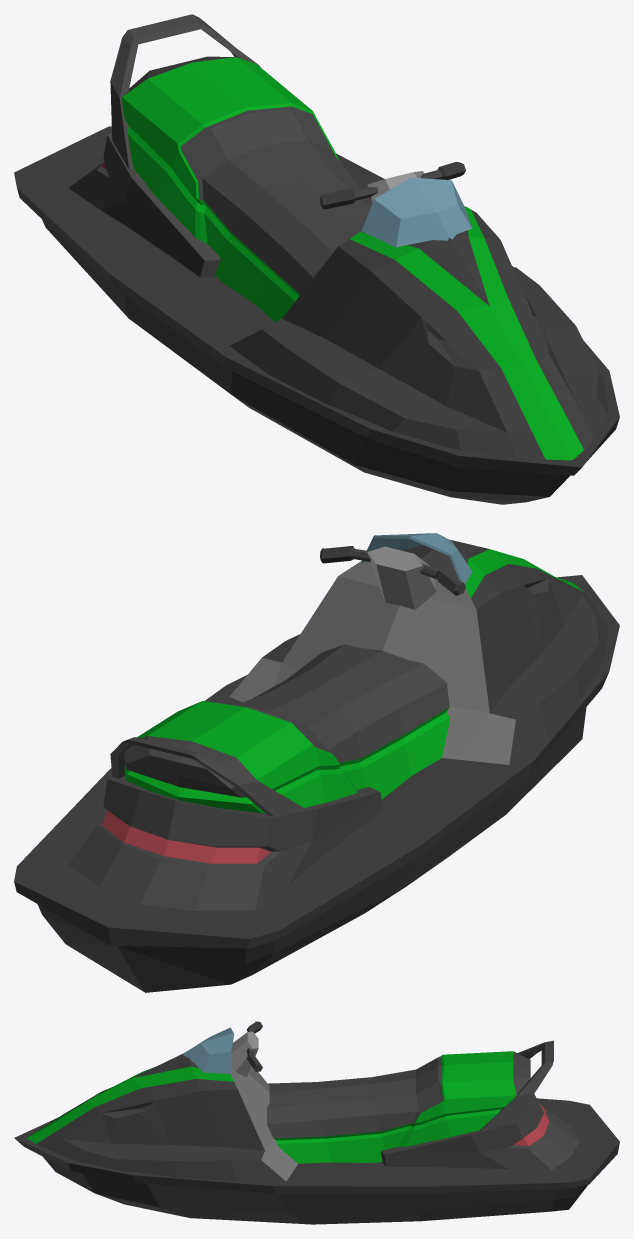
Rendered from Jetski B.fbx.
The picture shows the model from 3 angles, top to bottom: view 1: azimuth 30°, elevation 25°; view 2: azimuth 150°, elevation 25°; view 3: azimuth 270°, elevation 25°; orthographic projection. The views are drawn at different scales.
Parts seen in each view (by area): view 1: Jetski B; view 2: Jetski B; view 3: Jetski B.
Boxes of the visible parts, x1,y1,x2,y2 form: Jetski B: (14,14,619,504); Jetski B: (14,533,619,992); Jetski B: (14,1021,619,1224).
Size of the model in its own units: 114 by 99.57 by 300.
